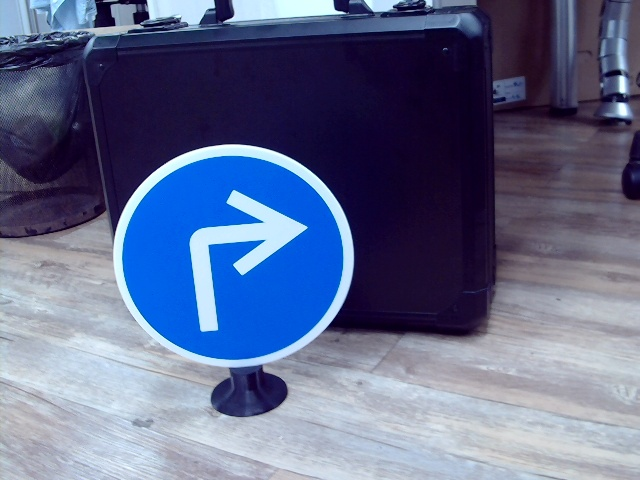turn_right: (177, 190, 303, 329)
